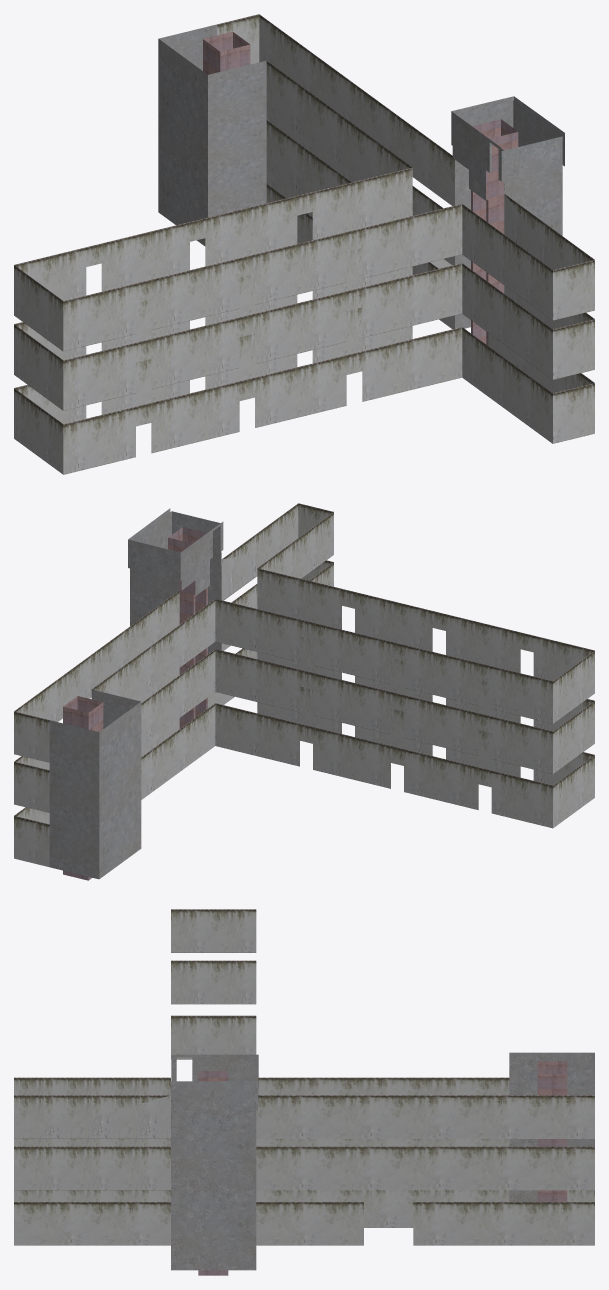
Rendered from PAREDES.fbx.
3 views of the same model, one above another, from view 1: azimuth 30°, elevation 25°; view 2: azimuth 150°, elevation 25°; view 3: azimuth 270°, elevation 25° (orthographic). The views are drawn at different scales.
Visible parts, largest first — view 1: PAREDES.005, PAREDES.001, PAREDES.003, PAREDES.002, PAREDES.019, PAREDES.028, PAREDES.027, PAREDES.006, PAREDES.029, PAREDES.004, PAREDES.010, PAREDES.011 (+22 smaller); view 2: PAREDES.002, PAREDES.004, PAREDES.006, PAREDES.001, PAREDES.026, PAREDES.027, PAREDES.019, PAREDES.005, PAREDES.029, PAREDES.003, PAREDES.030, PAREDES.031 (+19 smaller); view 3: PAREDES.020, PAREDES.019, ELEVADOR Y PILAR.009, PAREDES.022, PAREDES.017, PAREDES.016, PAR.007, PAREDES.029, PAREDES.021, PAREDES.031, PAREDES.008, PAREDES.007 (+10 smaller).
Part boxes in pixels (<box>): PAREDES.005: <box>63,327,462,474</box>; PAREDES.001: <box>63,204,462,351</box>; PAREDES.003: <box>63,263,462,410</box>; PAREDES.002: <box>14,167,412,300</box>; PAREDES.019: <box>259,14,454,205</box>; PAREDES.028: <box>208,60,266,217</box>; PAREDES.027: <box>158,39,207,246</box>; PAREDES.006: <box>14,307,412,424</box>; PAREDES.029: <box>266,61,412,179</box>; PAREDES.004: <box>14,248,412,360</box>; PAREDES.010: <box>462,204,552,320</box>; PAREDES.011: <box>462,263,552,379</box>; PAREDES.002: <box>215,599,552,723</box>; PAREDES.004: <box>215,649,552,773</box>; PAREDES.006: <box>215,703,552,828</box>; PAREDES.001: <box>257,568,594,680</box>; PAREDES.026: <box>49,720,99,879</box>; PAREDES.027: <box>99,702,141,878</box>; PAREDES.019: <box>14,590,179,721</box>; PAREDES.005: <box>257,686,594,785</box>; PAREDES.029: <box>92,599,215,699</box>; PAREDES.003: <box>257,636,594,731</box>; PAREDES.030: <box>141,649,215,745</box>; PAREDES.031: <box>141,703,215,799</box>; PAREDES.020: <box>256,1146,594,1190</box>; PAREDES.019: <box>256,1095,594,1138</box>; ELEVADOR Y PILAR.009: <box>171,1110,256,1270</box>; PAREDES.022: <box>413,1202,594,1245</box>; PAREDES.017: <box>14,1146,170,1190</box>; PAREDES.016: <box>14,1095,170,1138</box>; PAR.007: <box>14,1202,170,1245</box>; PAREDES.029: <box>258,1077,509,1095</box>; PAREDES.021: <box>256,1202,363,1245</box>; PAREDES.031: <box>256,1190,509,1227</box>; PAREDES.008: <box>171,960,256,1004</box>; PAREDES.007: <box>171,909,256,952</box>.
Size of the model in its own units: 4097 by 1863 by 4729.
3 materials, 3 textured.
